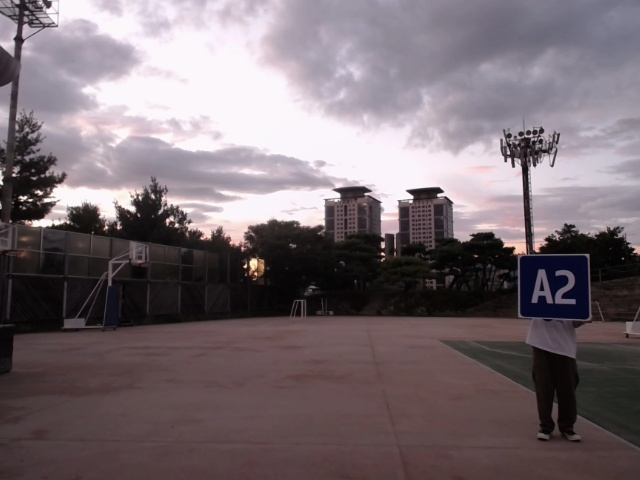delivery_a2: (519, 255, 590, 321)
